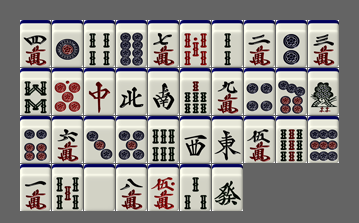0m: (148, 164, 179, 211)
0p: (52, 68, 83, 115)
0s: (180, 20, 211, 67)
1m: (20, 164, 51, 211)
1p: (52, 20, 83, 67)
1s: (308, 68, 339, 115)
1z: (212, 116, 243, 163)
2m: (244, 20, 275, 67)
2p: (276, 20, 307, 67)
2s: (212, 20, 243, 67)
2z: (148, 68, 179, 115)
3m: (308, 20, 339, 67)
3p: (84, 116, 115, 163)
3s: (180, 164, 211, 211)
3z: (180, 116, 211, 163)
4m: (20, 20, 51, 67)
4p: (244, 68, 275, 115)
4s: (84, 20, 115, 67)
4z: (116, 68, 147, 115)
5m: (244, 116, 275, 163)
5p: (116, 116, 147, 163)
5s: (52, 164, 83, 211)
5z: (84, 164, 115, 211)
6m: (52, 116, 83, 163)
6p: (20, 116, 51, 163)
6s: (148, 116, 179, 163)
6z: (212, 164, 243, 211)
7m: (148, 20, 179, 67)
7p: (276, 68, 307, 115)
7s: (180, 68, 211, 115)
7z: (84, 68, 115, 115)
8m: (116, 164, 147, 211)
8p: (116, 20, 147, 67)
8s: (20, 68, 51, 115)
9m: (212, 68, 243, 115)
9p: (308, 116, 339, 163)
9s: (276, 116, 307, 163)
